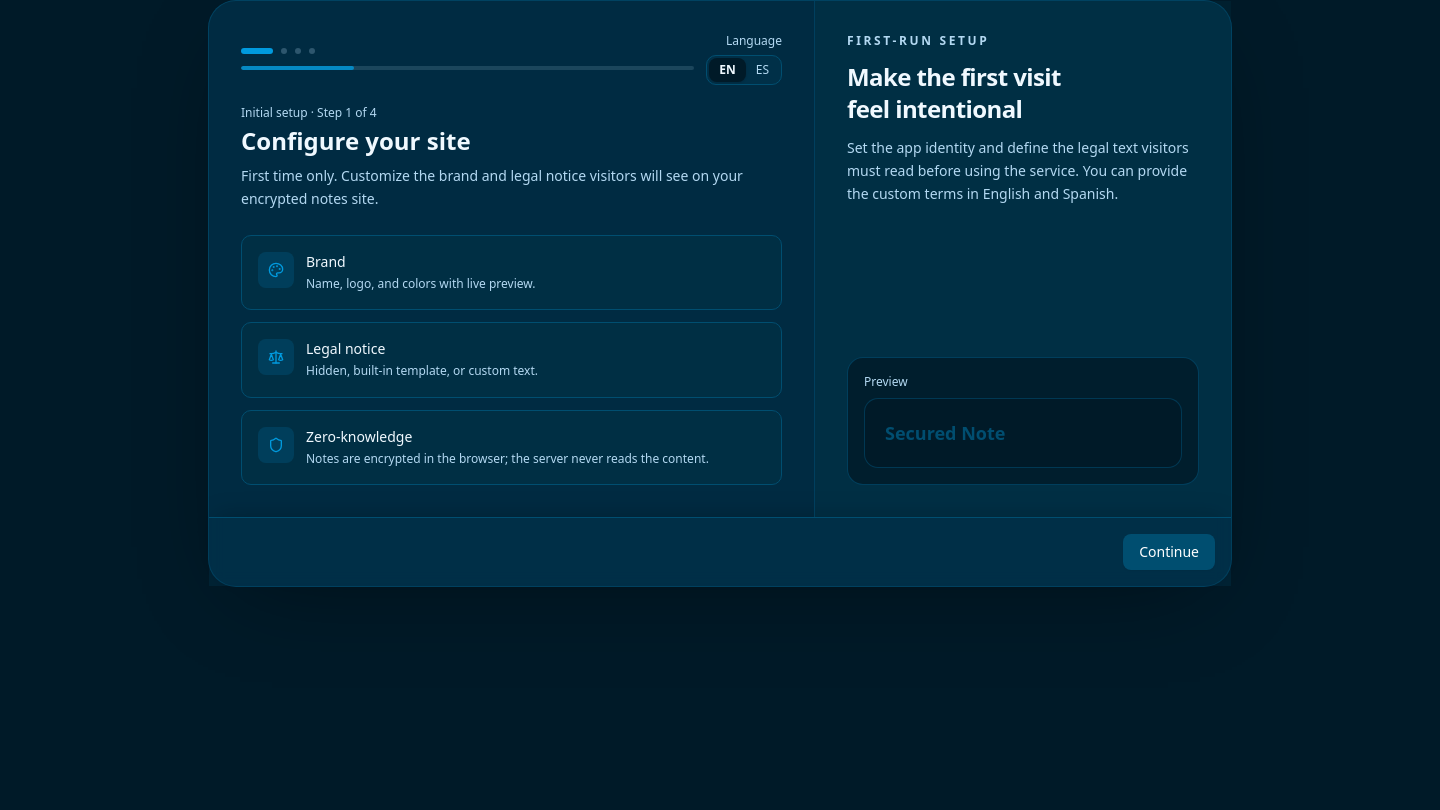
Test case: ProjectSetupModal › shows name error when brand step next is clicked without app name
Click the button "Continue": (1169, 552) left=1123, top=534, right=1215, bottom=570
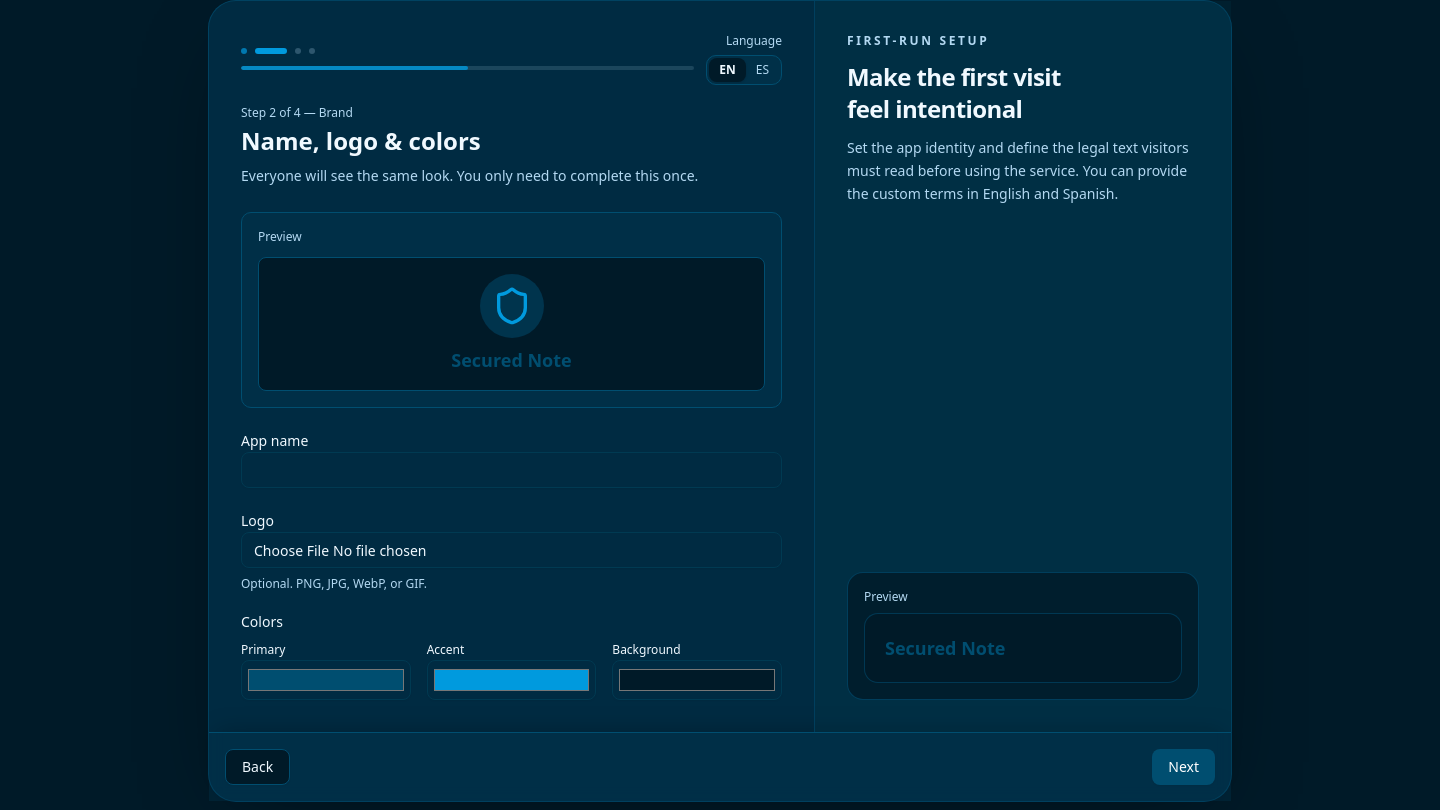
Click the button "Next": (1184, 767) left=1152, top=749, right=1215, bottom=785
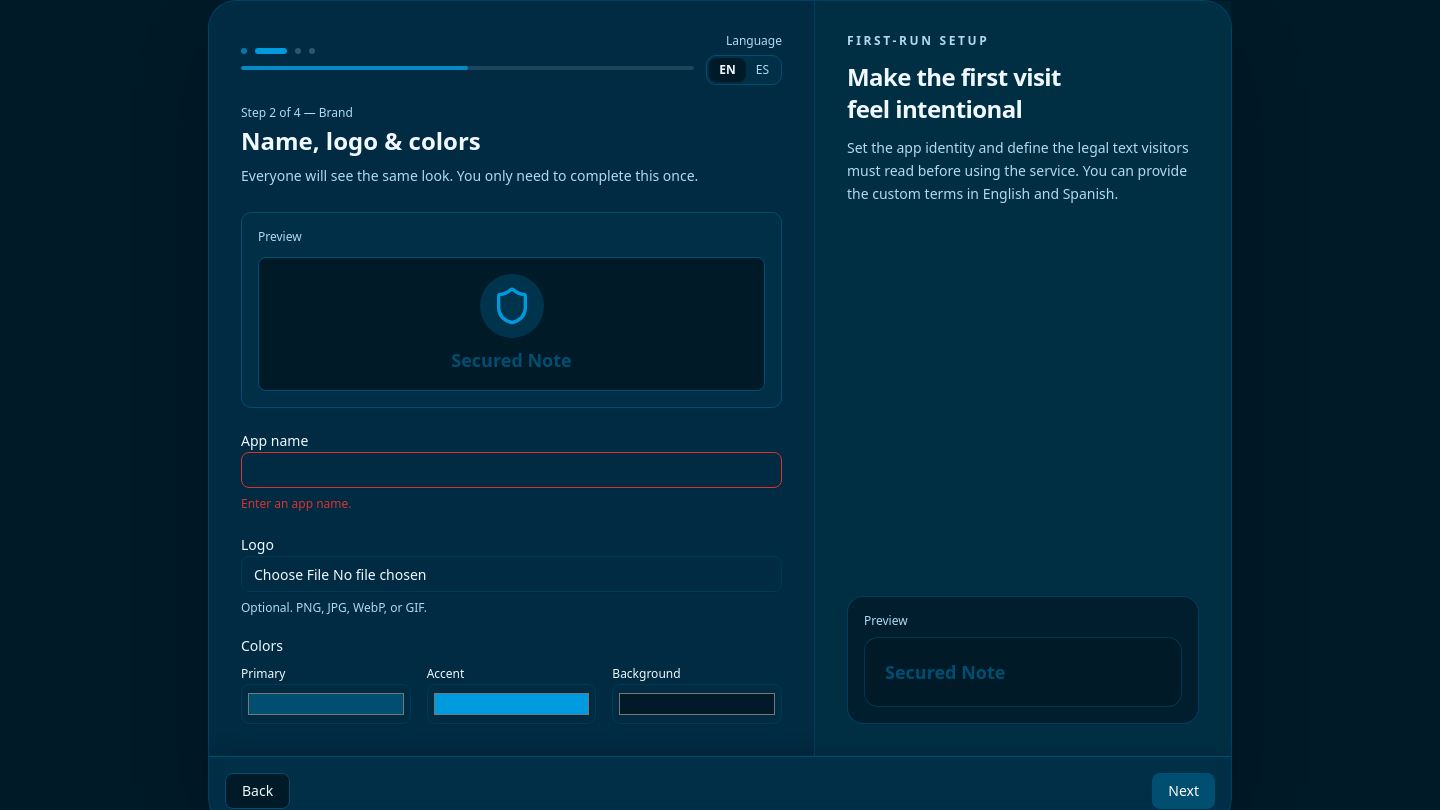
Expected: the text "Enter an app name." is shown, left=241, top=495, right=352, bottom=512
